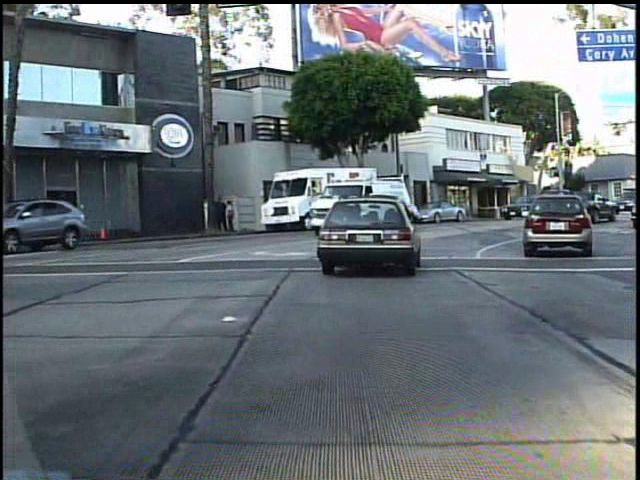person: (214, 193, 230, 234), (226, 198, 240, 234)
